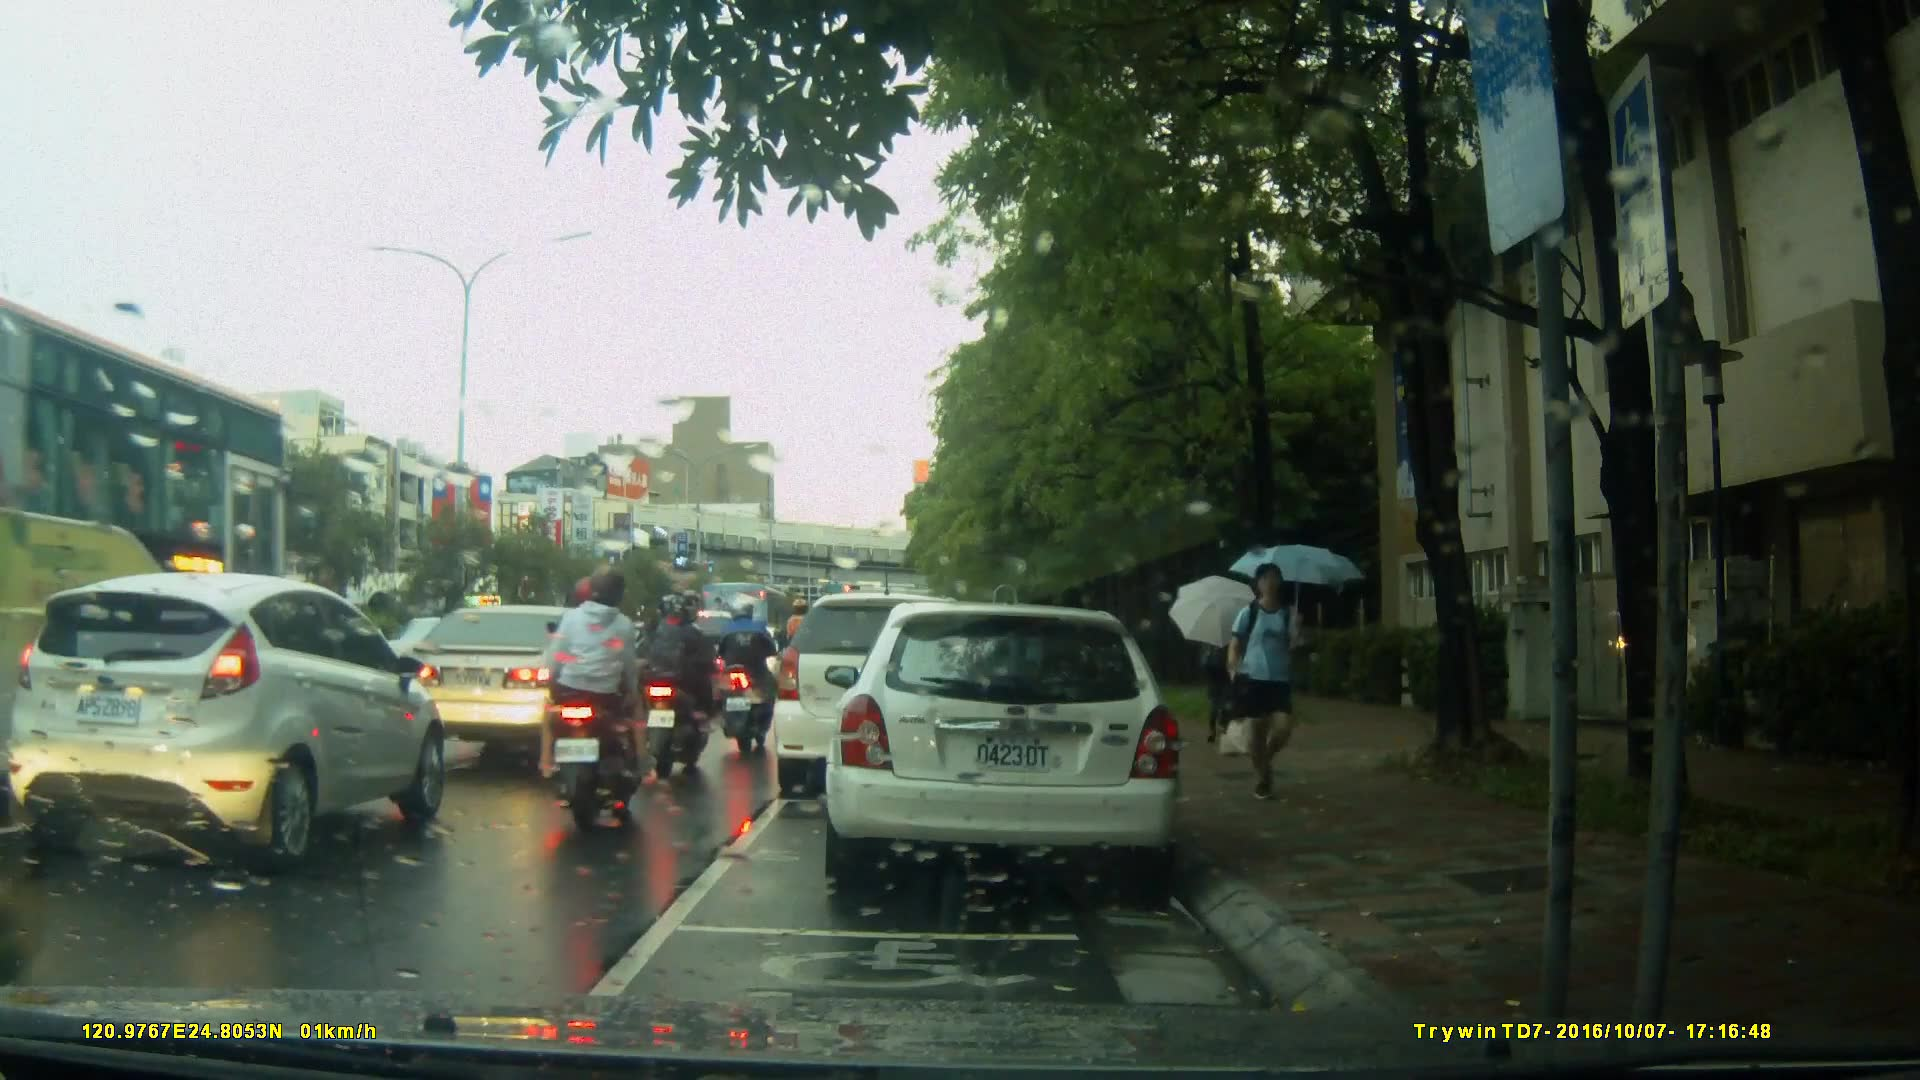pedestrian: (1219, 556, 1312, 812), (1212, 597, 1261, 742)
rider: (536, 559, 656, 847), (643, 590, 714, 784), (718, 592, 777, 748), (784, 596, 822, 736)
vehicle: (1, 292, 295, 765), (7, 569, 450, 873), (835, 594, 1194, 898), (776, 590, 1026, 784), (382, 603, 644, 767), (602, 619, 728, 717), (701, 581, 810, 672)
